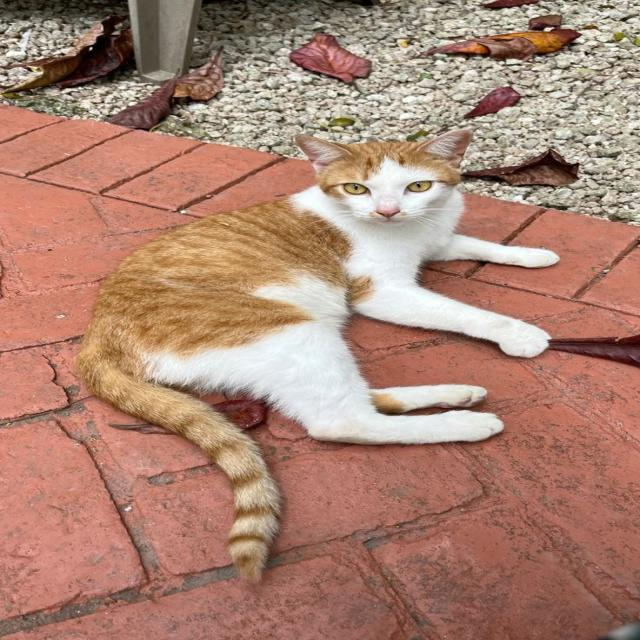sarman: (61, 85, 592, 604)
